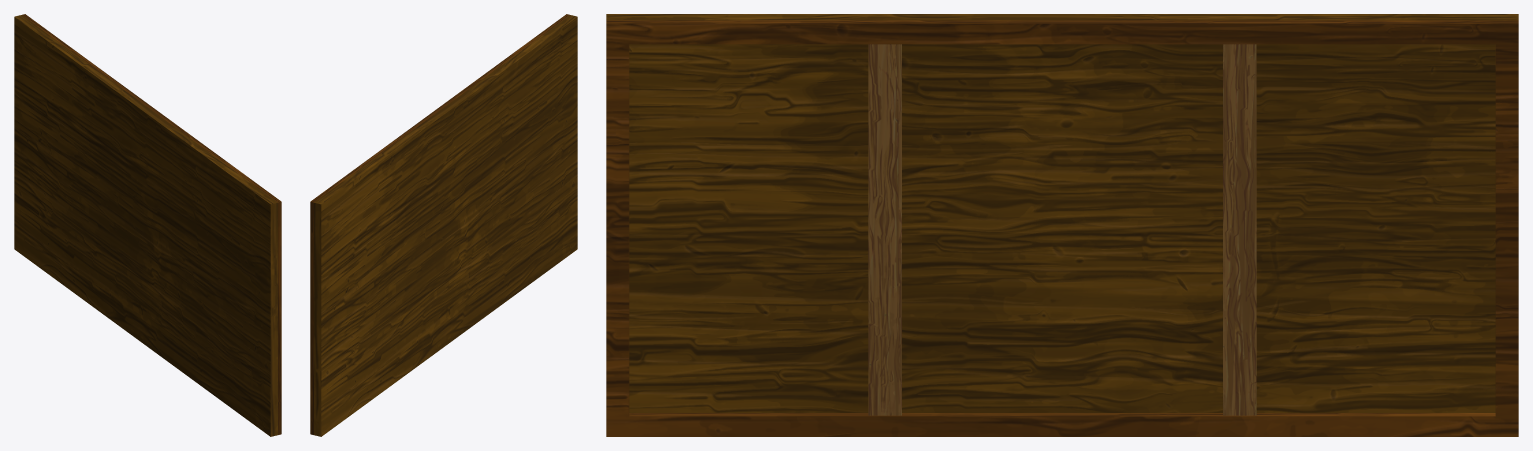
File: C_CrateSides_L03.fbx
The picture shows the model from 3 angles, left to right: view 1: azimuth 30°, elevation 25°; view 2: azimuth 150°, elevation 25°; view 3: azimuth 270°, elevation 25°; orthographic projection. The views are drawn at different scales.
Visible parts, largest first — view 1: CrateBack_Long, CrateEdge_Long; view 2: CrateBack_Long, CrateEdge_Long; view 3: CrateBack_Long, CrateEdge_Long, CrateCross_03_Long.
Part boxes in pixels (<box>): CrateBack_Long: <box>14,15,277,436</box>; CrateEdge_Long: <box>22,14,281,434</box>; CrateBack_Long: <box>314,15,577,436</box>; CrateEdge_Long: <box>310,14,569,434</box>; CrateBack_Long: <box>606,14,1518,412</box>; CrateEdge_Long: <box>606,20,1518,436</box>; CrateCross_03_Long: <box>868,44,1256,415</box>.
Bounding box in the file's own units: 0.15 × 3 × 6.
